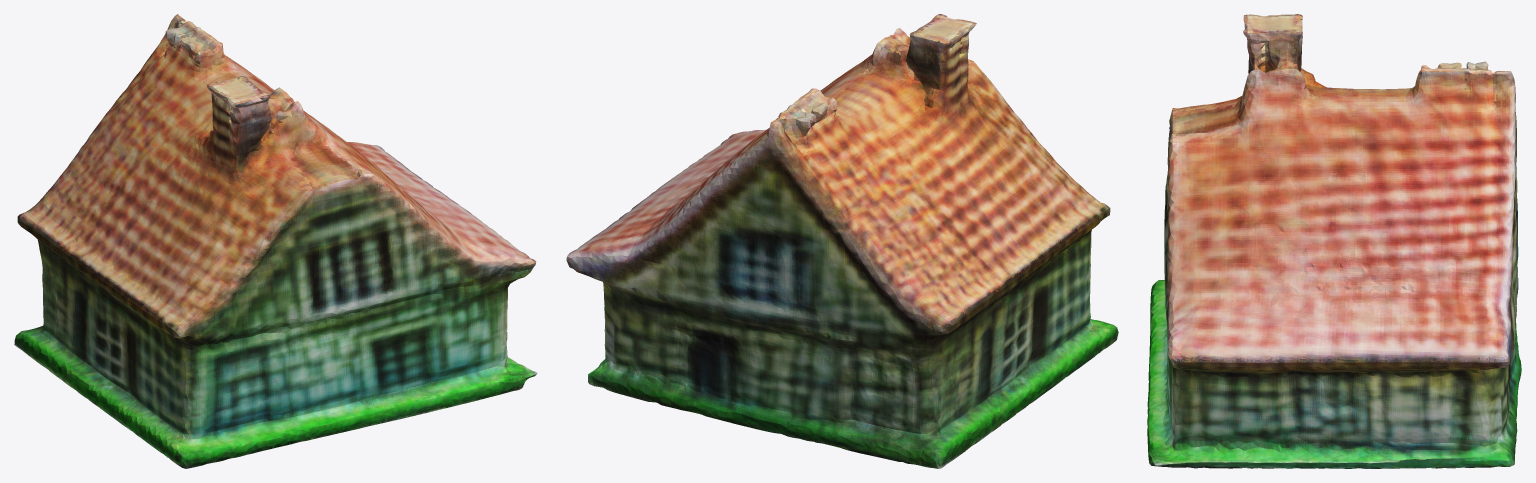
File: a house_11.glb
The picture shows the model from 3 angles, left to right: view 1: azimuth 30°, elevation 25°; view 2: azimuth 150°, elevation 25°; view 3: azimuth 270°, elevation 25°; orthographic projection. The views are drawn at different scales.
Size of the model in its own units: 0.9785 by 0.8243 by 0.8247.
Materials: 1 (1 with a texture image).
